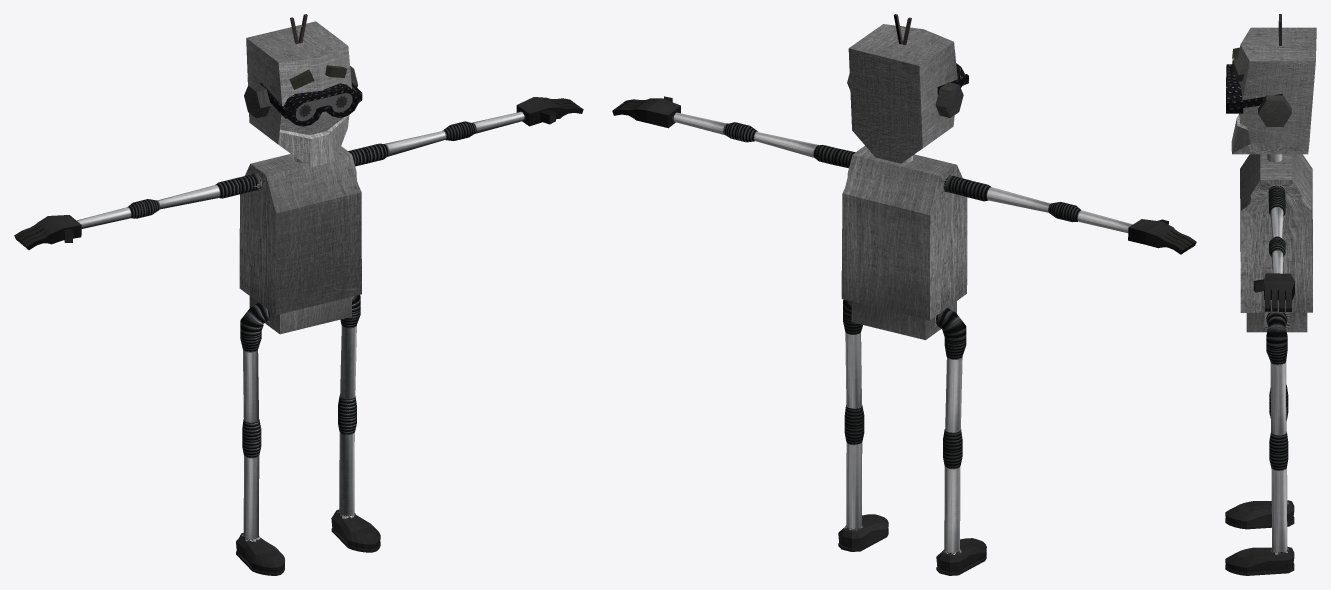
File: robotWithAnimations4.fbx
3 views of the same model, side by side, from view 1: azimuth 30°, elevation 25°; view 2: azimuth 150°, elevation 25°; view 3: azimuth 270°, elevation 25° (orthographic). The views are drawn at different scales.
Parts seen in each view (by area): view 1: Robot.001; view 2: Robot.001; view 3: Robot.001.
Boxes of the visible parts, bbox=[...] form: Robot.001: bbox=[14, 14, 583, 575]; Robot.001: bbox=[612, 14, 1196, 575]; Robot.001: bbox=[1225, 14, 1316, 575].
Bounding box in the file's own units: 375 × 339 × 53.47.
Materials: 1 (1 with a texture image).
